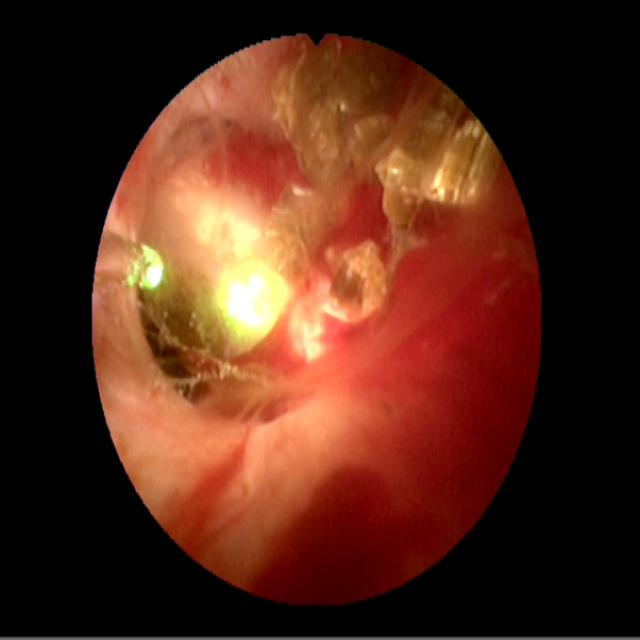stone: (267, 50, 492, 271), (196, 210, 284, 357), (322, 242, 382, 320)
tissue: (104, 197, 516, 588)
